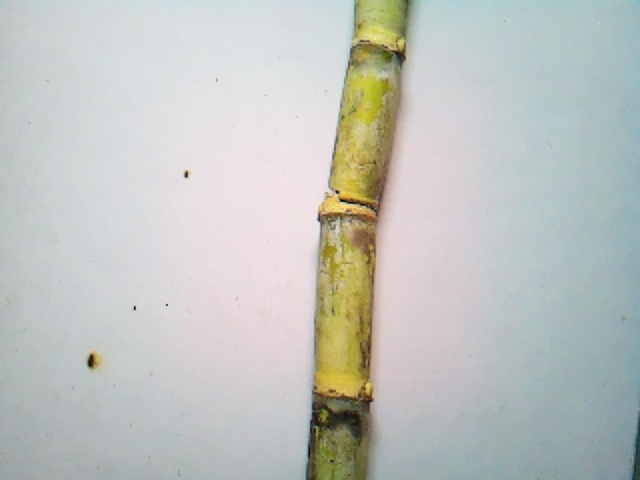Good Sugarcane: (304, 0, 411, 475)
Node: (320, 178, 385, 229), (346, 23, 408, 72), (309, 369, 375, 413)
